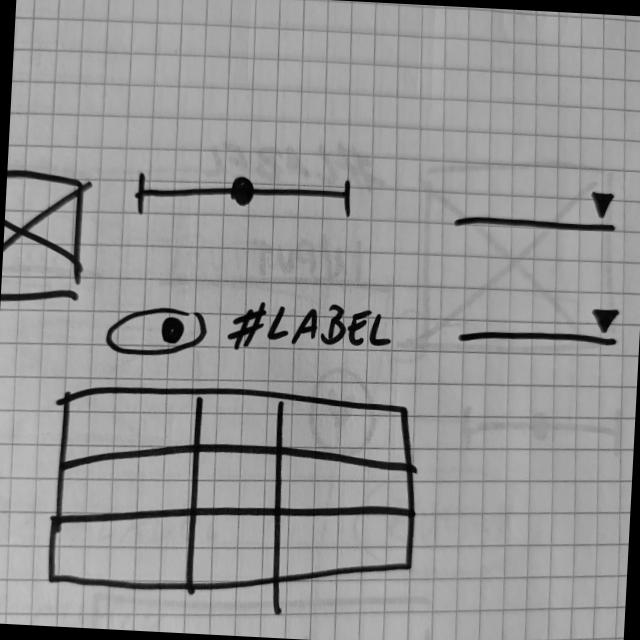image: (1, 166, 91, 318)
label: (225, 294, 401, 367)
select: (456, 293, 627, 359), (451, 179, 624, 244)
slider: (134, 169, 358, 234)
table: (47, 377, 426, 611)
toggle: (106, 302, 211, 365)
